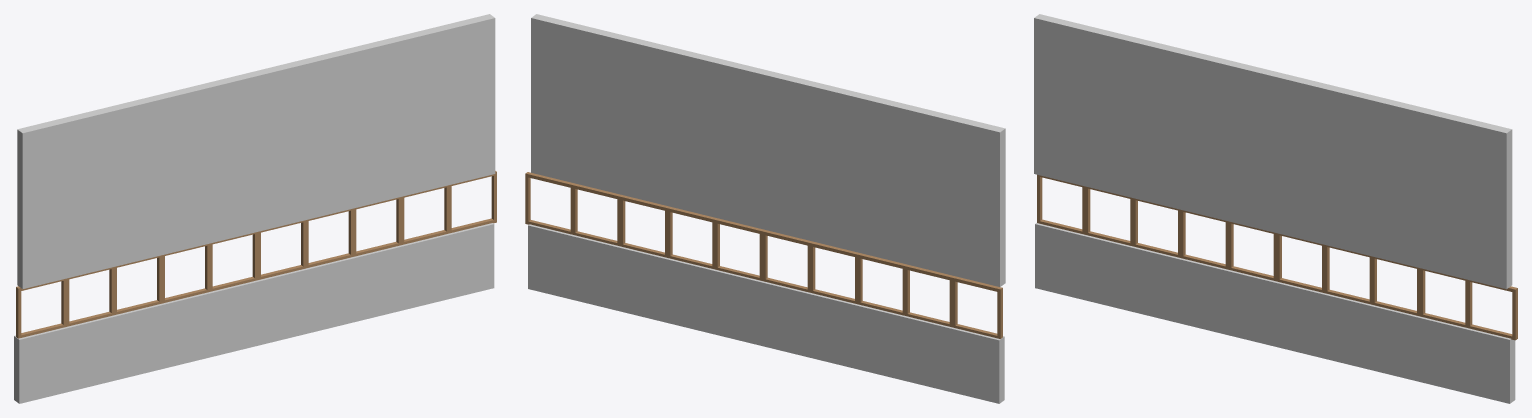
The picture shows the model from 3 angles, left to right: view 1: azimuth 30°, elevation 25°; view 2: azimuth 150°, elevation 25°; view 3: azimuth 330°, elevation 25°; orthographic projection.
Visible parts, largest first — view 1: Cube.023, Cube.014, Cube.015, Cube.012, Cube.026, Cube.016, Cube.025, Cube.013, Cube.024, Cube.021, Cube.011, Cube.017; view 2: Cube.023, Cube.014, Cube.015, Cube.013, Cube.012, Cube.017, Cube.021, Cube.016, Cube.025, Cube.011, Cube.026, Cube.024; view 3: Cube.023, Cube.014, Cube.021, Cube.016, Cube.015, Cube.011, Cube.026, Cube.024, Cube.012, Cube.025, Cube.013, Cube.017.
Boxes of the visible parts, x1,y1,x2,y2 form: Cube.023: (17,14,495,288); Cube.014: (14,223,494,403); Cube.015: (16,278,66,338); Cube.012: (209,232,258,291); Cube.026: (401,185,449,244); Cube.016: (66,267,114,326); Cube.025: (353,197,401,256); Cube.013: (258,220,306,279); Cube.024: (306,208,353,268); Cube.021: (448,171,496,233); Cube.011: (161,243,209,303); Cube.017: (114,255,162,314); Cube.023: (531,14,1005,286); Cube.014: (528,224,1004,403); Cube.015: (952,276,1002,338); Cube.013: (714,218,764,280); Cube.012: (762,230,812,292); Cube.017: (857,253,906,315); Cube.021: (525,172,575,234); Cube.016: (904,264,954,327); Cube.025: (620,195,669,257); Cube.011: (810,241,859,303); Cube.026: (572,184,621,246); Cube.024: (667,207,716,269); Cube.023: (1034,14,1512,289); Cube.014: (1035,223,1515,403); Cube.021: (1467,279,1517,340); Cube.016: (1085,186,1133,246); Cube.015: (1037,174,1085,234); Cube.011: (1180,209,1228,269); Cube.026: (1420,268,1468,327); Cube.024: (1324,244,1372,304); Cube.012: (1228,221,1276,281); Cube.025: (1371,256,1420,316); Cube.013: (1276,233,1323,292); Cube.017: (1132,198,1180,257).
Size of the model in its own units: 3281 by 1779 by 88.74.
